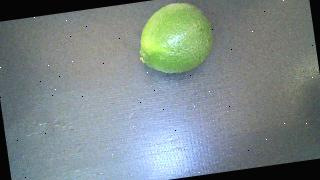EXPORTACION: (133, 0, 216, 77)
